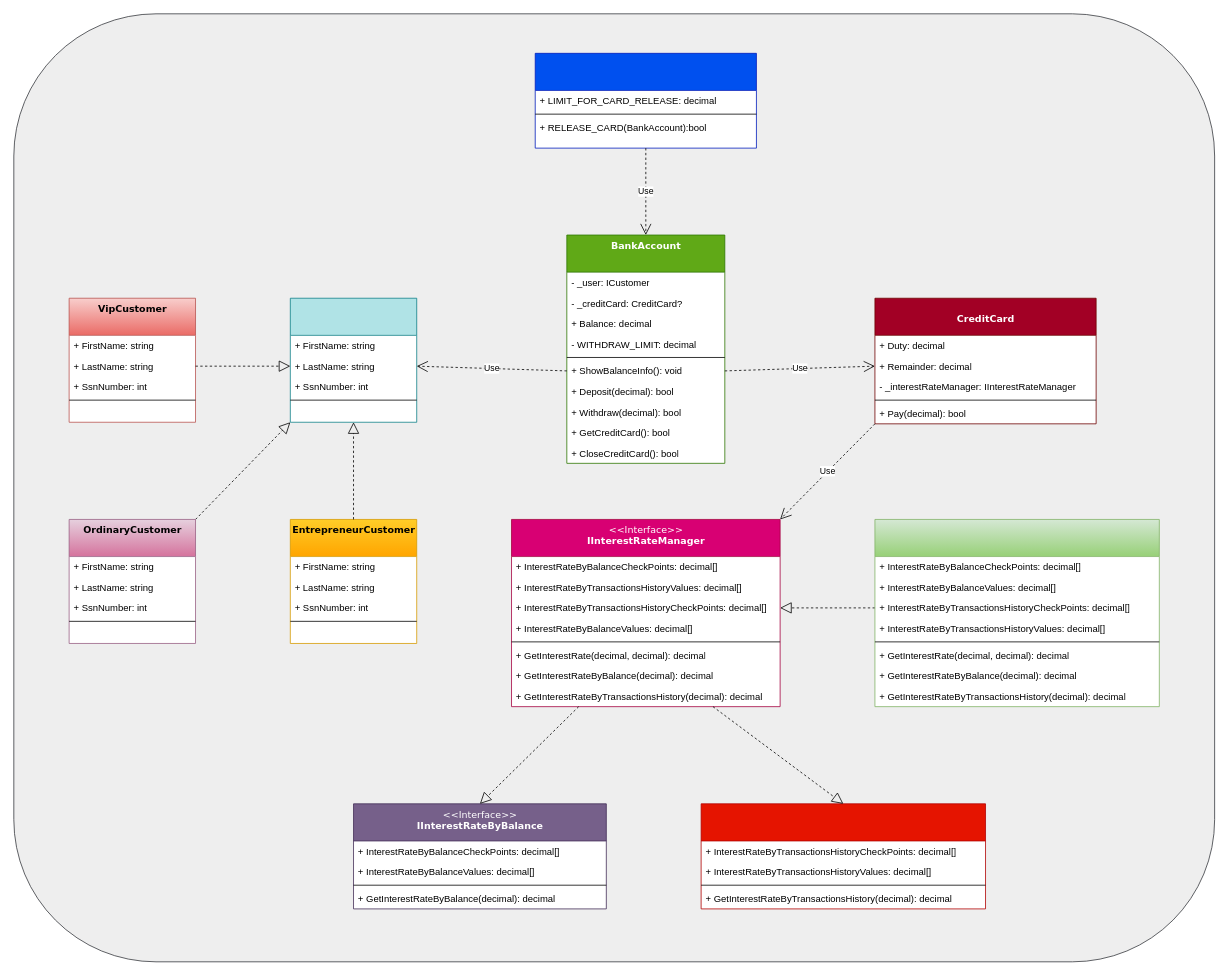
The diagram is 1228 pixels wide and 976 high, and some of its shapes have lost their labels. Here are the shapes that lost their labels. From the top down, the box of each, then its label:
(534, 53, 756, 148): CreditDepartment
(290, 297, 417, 422): <<Interface>> ICustomer
(874, 519, 1159, 707): BaseInterestRateManager
(700, 803, 986, 909): <<Interface>> IInterestRateByTransactionsHistory
